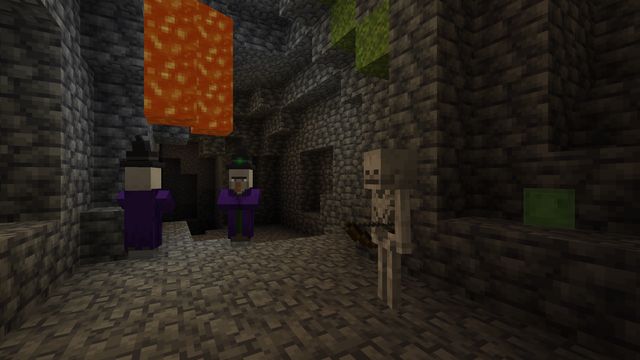slimes: (516, 186, 576, 229)
sorcieres: (123, 162, 160, 262), (226, 165, 256, 248)
squelettes: (356, 148, 422, 318)
